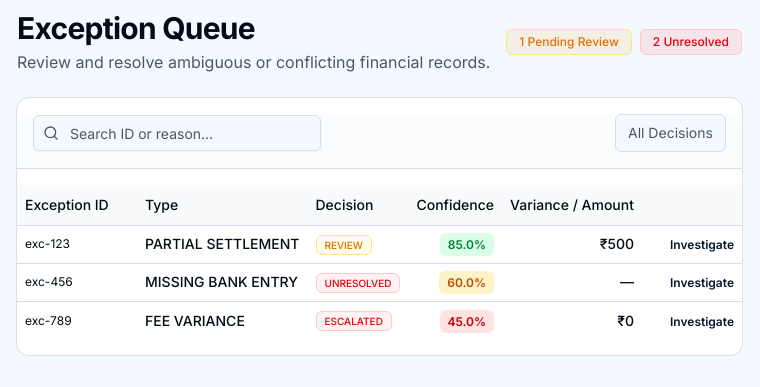
Test: Exceptions Page › displays no-match state when filter yields no results
This screenshot has width=760, height=387.
Expected: the text "exc-123" is shown, left=17, top=225, right=137, bottom=263
Type "nonexistent-id-1234" into the field with placeholder "Search ID or reason..." at coordinates (177, 133), box left=33, top=115, right=321, bottom=151
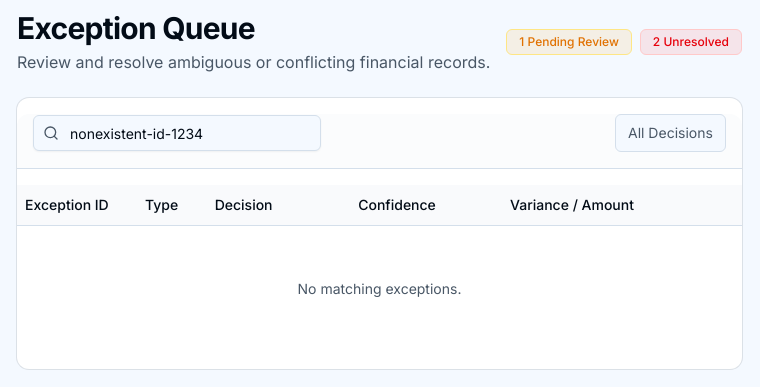
Result: the text "No matching exceptions." is shown at left=298, top=280, right=461, bottom=297
Result: the text "exc-123" is gone
